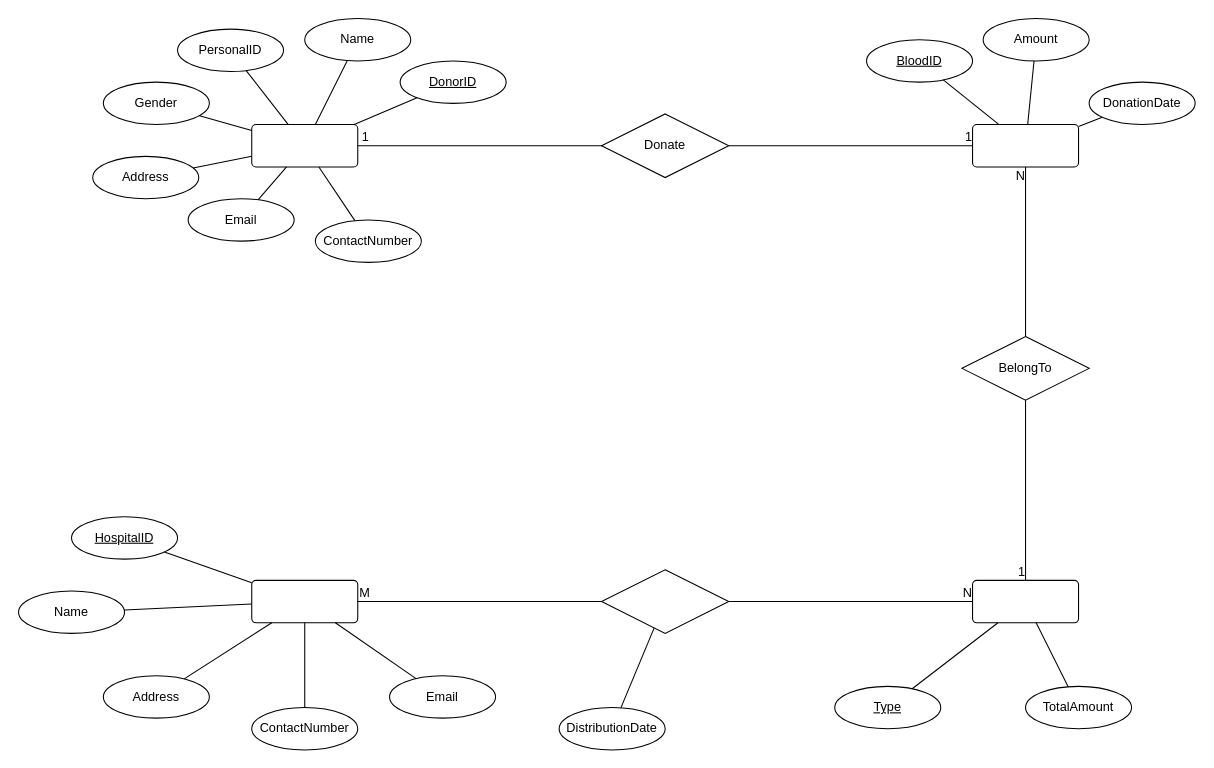
Image size: 1214x768. Some labels were removed from this diagram. Here are the shapes that lost their labels. From the top down, the centre of each, then its label:
the point at 304,145: Donor
the point at 1025,145: Blood
the point at 304,601: Hospital
the point at 664,601: DistributeBlood
the point at 1025,601: BloodGroup
